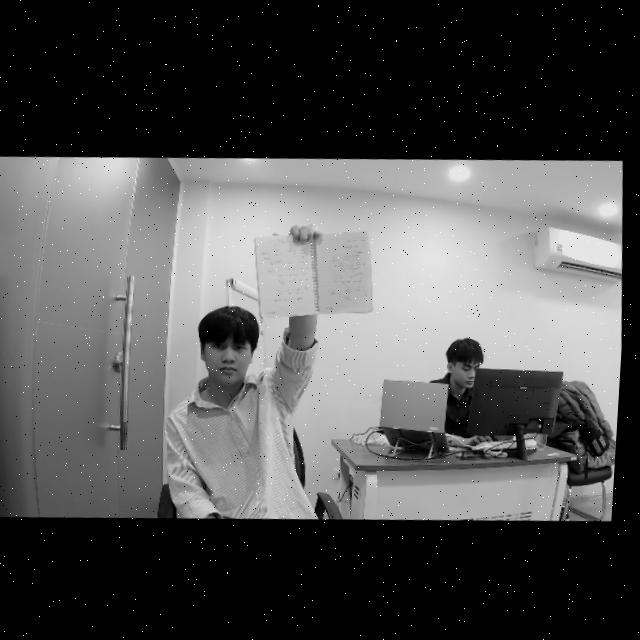document: (254, 230, 373, 318)
face: (200, 331, 252, 385), (452, 352, 480, 391)
